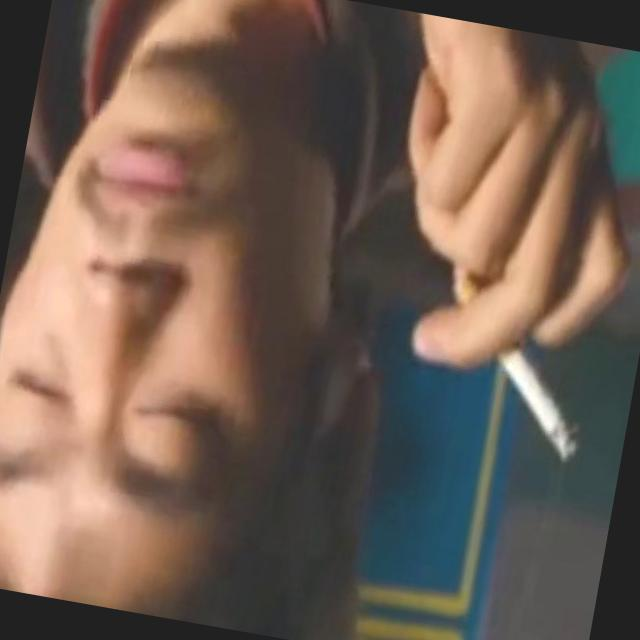smoke: (477, 334, 596, 470)
